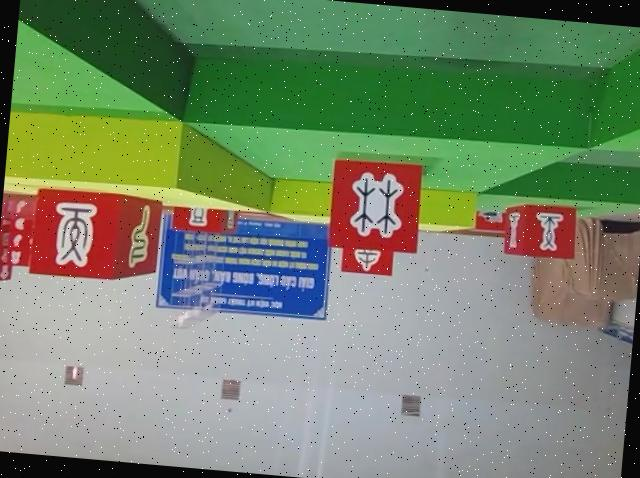R2 Fake: (25, 185, 167, 288)
R2 Real: (324, 154, 427, 257), (502, 198, 581, 263)
